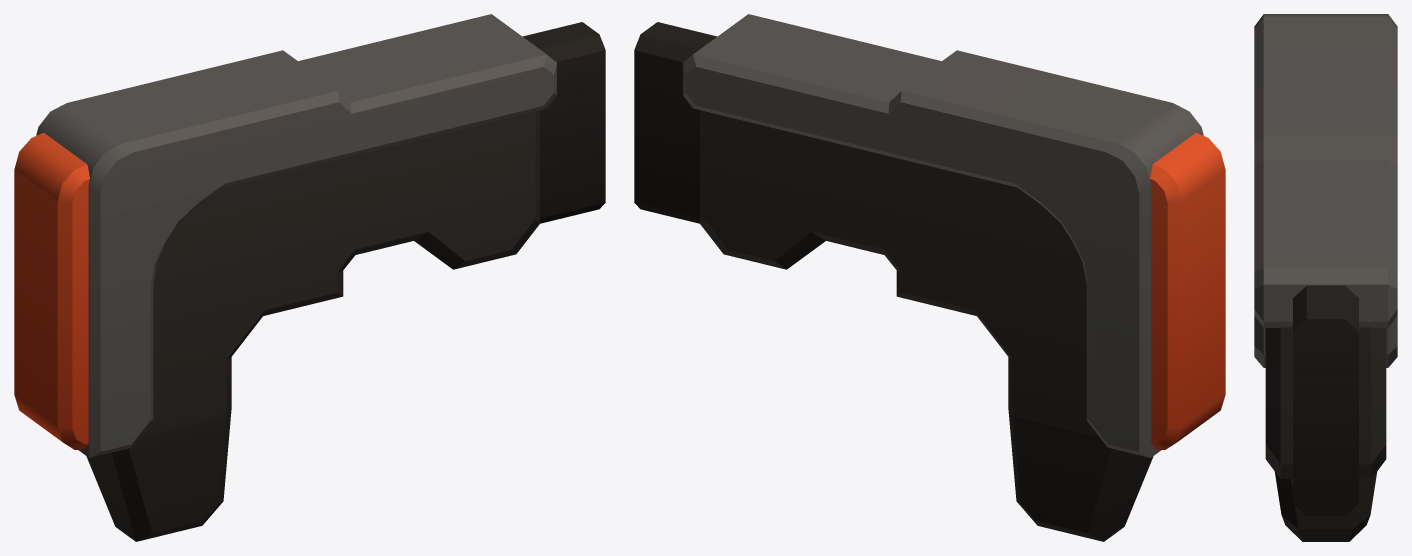
The model's file is MG2_ButtstockHeavy.fbx.
3 views of the same model, side by side, from view 1: azimuth 30°, elevation 25°; view 2: azimuth 150°, elevation 25°; view 3: azimuth 270°, elevation 25° (orthographic). The views are drawn at different scales.
Parts seen in each view (by area): view 1: MG2_ButtstockHeavy; view 2: MG2_ButtstockHeavy; view 3: MG2_ButtstockHeavy.
Boxes of the visible parts, x1=… form: MG2_ButtstockHeavy: x1=14, y1=14, x2=605, y2=541; MG2_ButtstockHeavy: x1=634, y1=14, x2=1225, y2=541; MG2_ButtstockHeavy: x1=1254, y1=14, x2=1397, y2=541.
Size of the model in its own units: 27.81 by 20.05 by 5.53.
